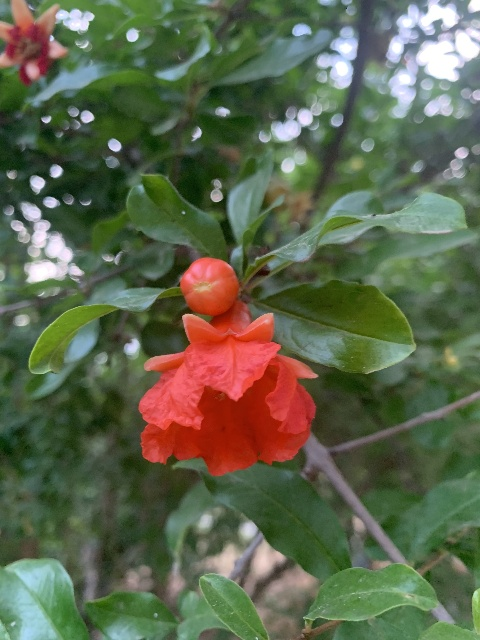bud: (180, 257, 239, 317)
flower: (138, 300, 318, 477), (0, 0, 67, 86)
mid-growth: (263, 176, 315, 227)
